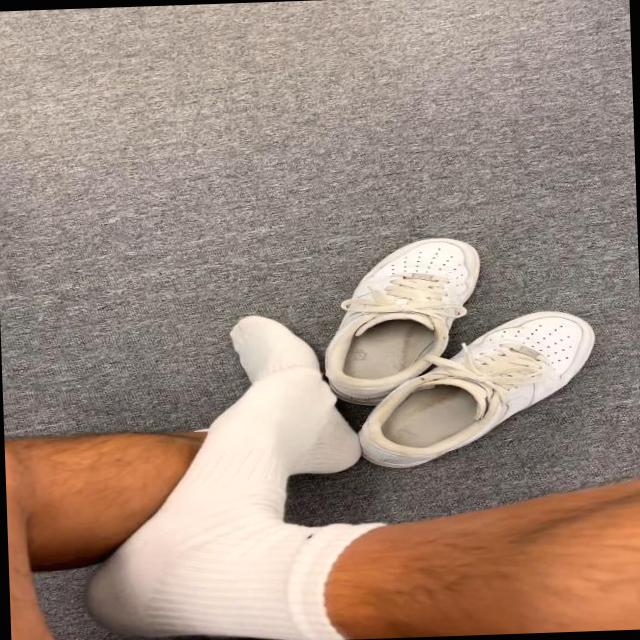nike_original_airforce: (351, 306, 604, 472), (318, 231, 497, 406)
